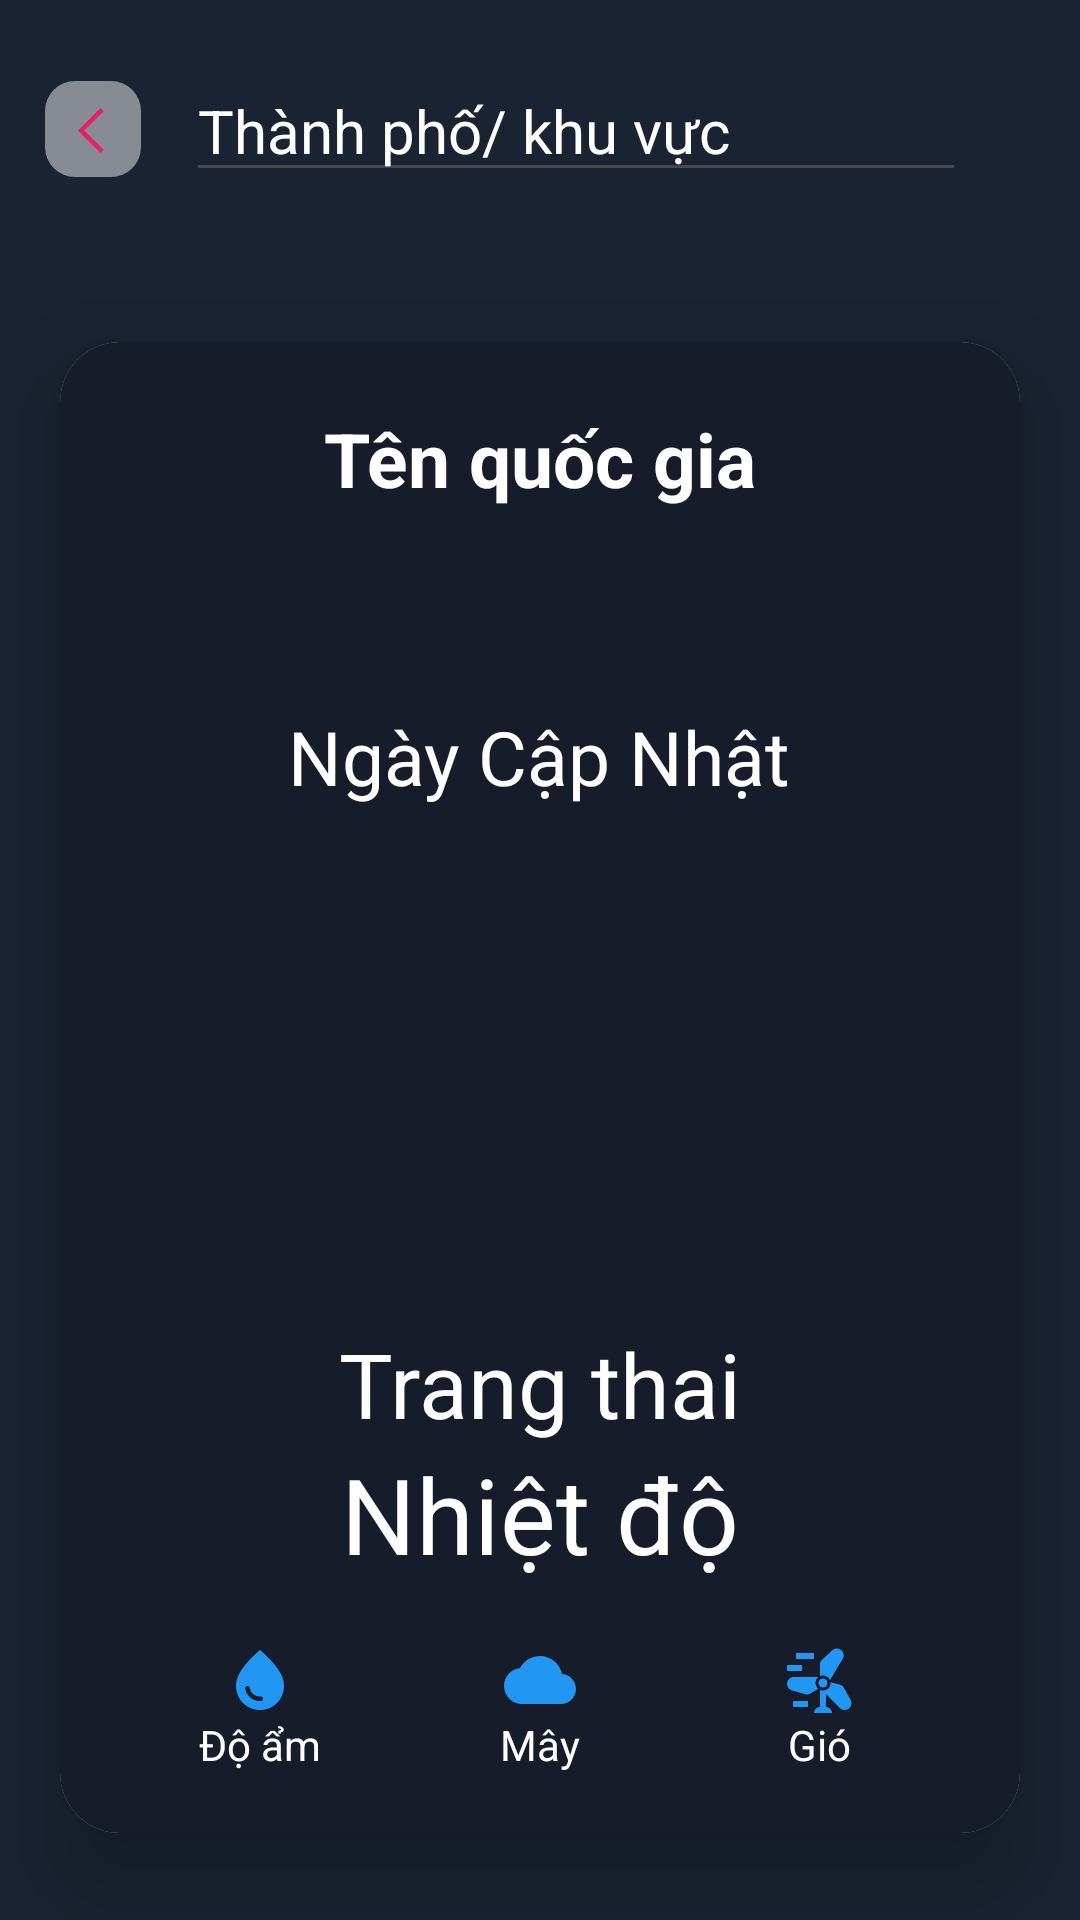

Point at icon controls on the screen. Image size 1080w x 1920h, points as (x=x, y=y).
back: (x=93, y=129)
cloudy: (x=540, y=1680)
water drop: (x=260, y=1680)
